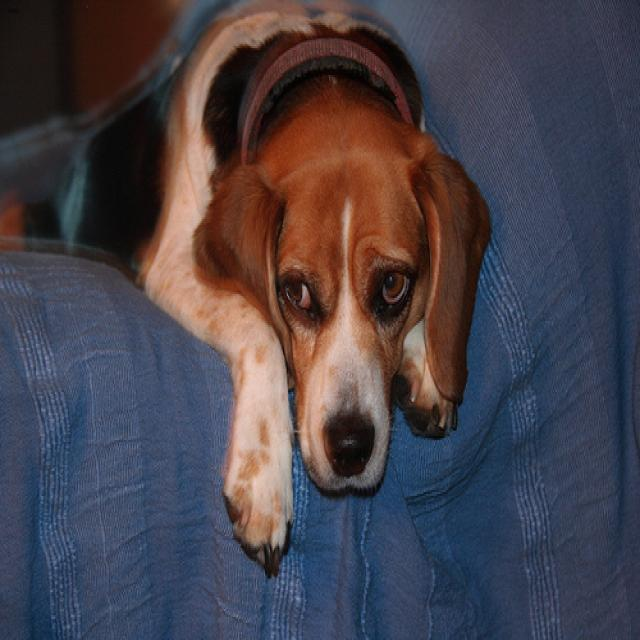dog-beagle: (1, 2, 504, 582)
